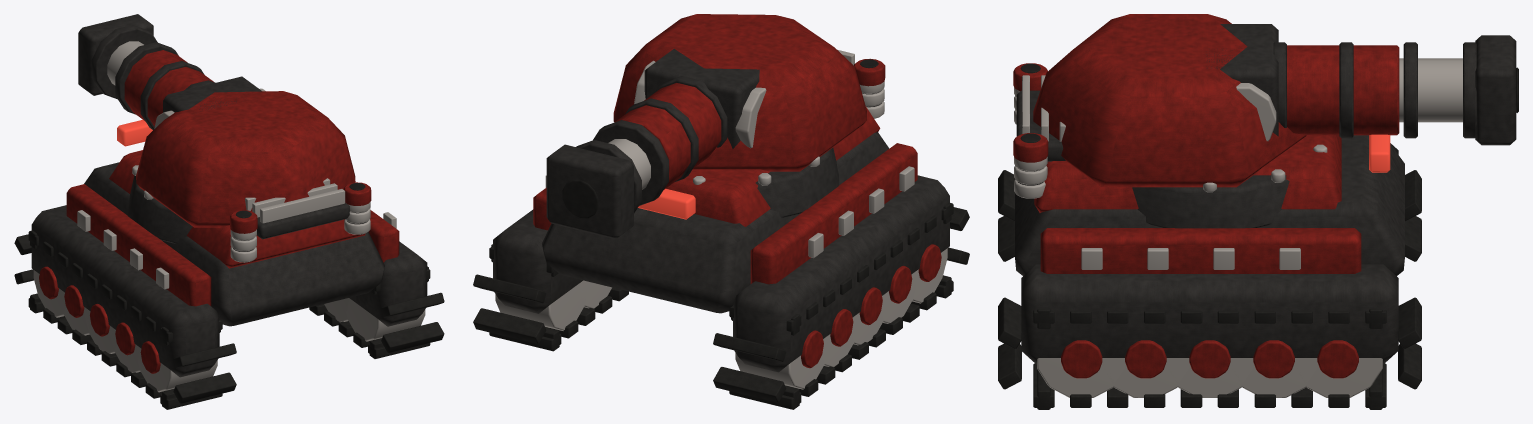
The model's file is kharn_brute.gltf.
3 renders of one model, left to right at view 1: azimuth 30°, elevation 25°; view 2: azimuth 150°, elevation 25°; view 3: azimuth 270°, elevation 25°, orthographic. The views are drawn at different scales.
Visible parts, largest first — view 1: Root.029_Geometry, TurretYaw.013_Geometry, GunRecoil.011_Geometry, Track_-0.85_0.001_Geometry, Track_0.85_0.001_Geometry, GunPitch.015_Geometry, Wheel_-0.84535_0.001_Geometry, Wheel_0.84535_0.001_Geometry, Wheel_-0.84535_4.001_Geometry, Wheel_-0.84535_1.001_Geometry, Wheel_-0.84535_2.001_Geometry, Wheel_-0.84535_3.001_Geometry (+1 smaller); view 2: Root.029_Geometry, TurretYaw.013_Geometry, GunRecoil.011_Geometry, Track_-0.85_0.001_Geometry, GunPitch.015_Geometry, Track_0.85_0.001_Geometry, Wheel_-0.84535_4.001_Geometry, Wheel_0.84535_4.001_Geometry, Wheel_-0.84535_1.001_Geometry, Wheel_-0.84535_0.001_Geometry, Wheel_-0.84535_2.001_Geometry, Wheel_-0.84535_3.001_Geometry (+1 smaller); view 3: Root.029_Geometry, TurretYaw.013_Geometry, GunRecoil.011_Geometry, Track_0.85_0.001_Geometry, GunPitch.015_Geometry, Wheel_0.84535_0.001_Geometry, Wheel_0.84535_4.001_Geometry, Wheel_0.84535_2.001_Geometry, Wheel_0.84535_1.001_Geometry, Wheel_0.84535_3.001_Geometry, Track_-0.85_0.001_Geometry.
Part boxes in pixels (box(x1,y1,x2,y2)): Root.029_Geometry: box(31, 119, 427, 377); TurretYaw.013_Geometry: box(136, 91, 355, 227); GunRecoil.011_Geometry: box(78, 14, 215, 129); Track_-0.85_0.001_Geometry: box(14, 230, 236, 409); Track_0.85_0.001_Geometry: box(309, 266, 444, 358); GunPitch.015_Geometry: box(154, 76, 265, 128); Wheel_-0.84535_0.001_Geometry: box(136, 341, 217, 392); Wheel_0.84535_0.001_Geometry: box(345, 298, 425, 341); Wheel_-0.84535_4.001_Geometry: box(33, 266, 65, 317); Wheel_-0.84535_1.001_Geometry: box(110, 322, 141, 372); Wheel_-0.84535_2.001_Geometry: box(84, 303, 116, 353); Wheel_-0.84535_3.001_Geometry: box(63, 285, 91, 335); Root.029_Geometry: box(493, 50, 949, 372); TurretYaw.013_Geometry: box(613, 14, 866, 171); GunRecoil.011_Geometry: box(546, 76, 727, 238); Track_-0.85_0.001_Geometry: box(713, 202, 969, 409); GunPitch.015_Geometry: box(634, 49, 766, 148); Track_0.85_0.001_Geometry: box(473, 244, 628, 351); Wheel_-0.84535_4.001_Geometry: box(735, 330, 824, 389); Wheel_0.84535_4.001_Geometry: box(495, 281, 586, 330); Wheel_-0.84535_1.001_Geometry: box(881, 265, 916, 323); Wheel_-0.84535_0.001_Geometry: box(911, 244, 947, 303); Wheel_-0.84535_2.001_Geometry: box(851, 287, 883, 345); Wheel_-0.84535_3.001_Geometry: box(822, 309, 854, 367); Root.029_Geometry: box(1013, 63, 1404, 364); TurretYaw.013_Geometry: box(1033, 14, 1306, 187); GunRecoil.011_Geometry: box(1273, 35, 1518, 145); Track_0.85_0.001_Geometry: box(998, 297, 1421, 409); GunPitch.015_Geometry: box(1206, 24, 1278, 141); Wheel_0.84535_0.001_Geometry: box(1037, 340, 1124, 397); Wheel_0.84535_4.001_Geometry: box(1295, 340, 1382, 397); Wheel_0.84535_2.001_Geometry: box(1167, 340, 1252, 397); Wheel_0.84535_1.001_Geometry: box(1103, 340, 1188, 397); Wheel_0.84535_3.001_Geometry: box(1231, 340, 1316, 397); Track_-0.85_0.001_Geometry: box(998, 170, 1421, 261).
Size of the model in its own units: 2.15 by 1.75 by 2.92.
5 materials, 3 textured.
